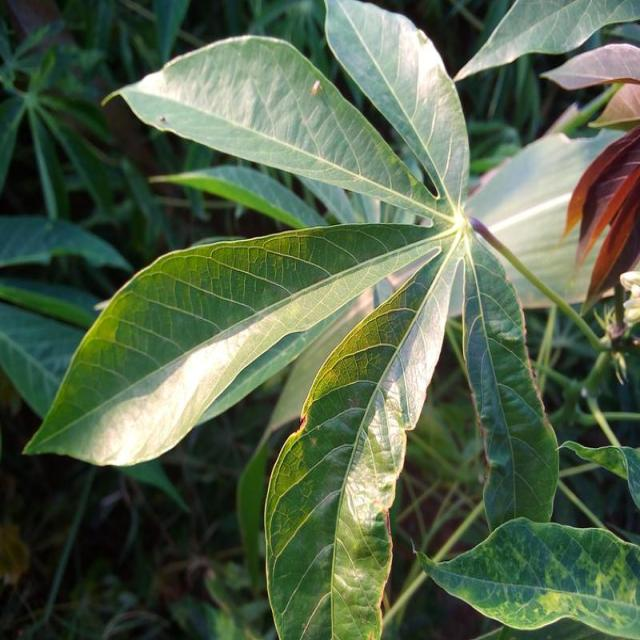cassava leaf: (19, 1, 638, 637), (20, 220, 449, 467), (100, 32, 453, 221), (412, 515, 639, 638)
